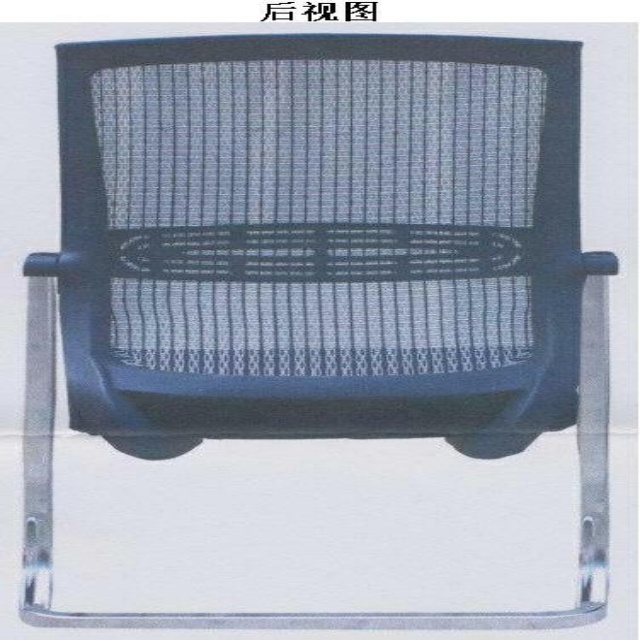obstacle: (20, 34, 616, 628)
